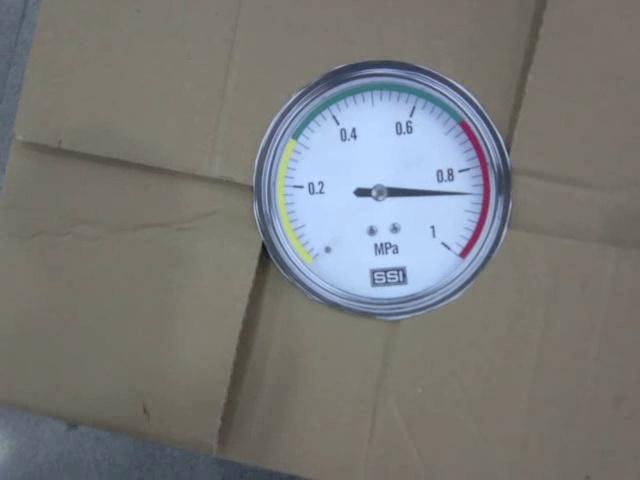Dashboard: (255, 61, 512, 319)
ssi: (368, 267, 407, 286)
